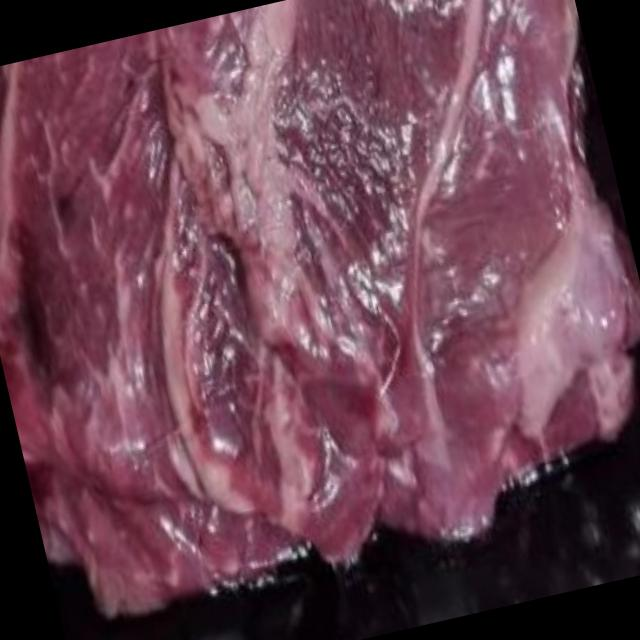pork: (0, 0, 604, 600)
